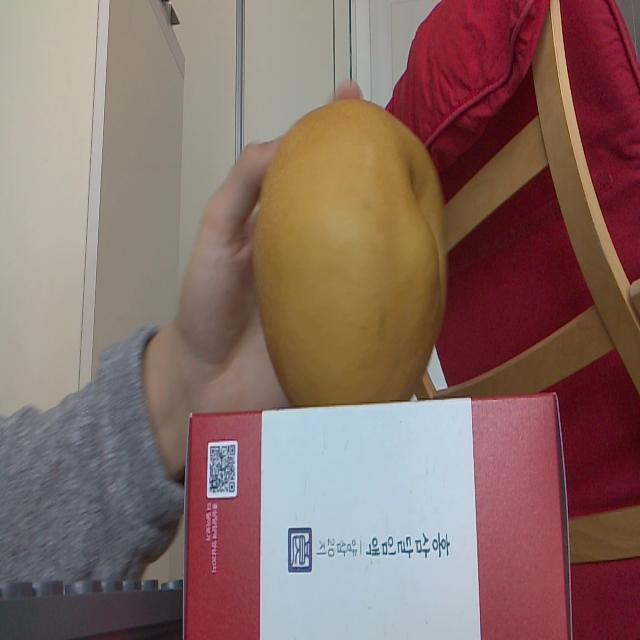pear: (257, 101, 445, 401)
